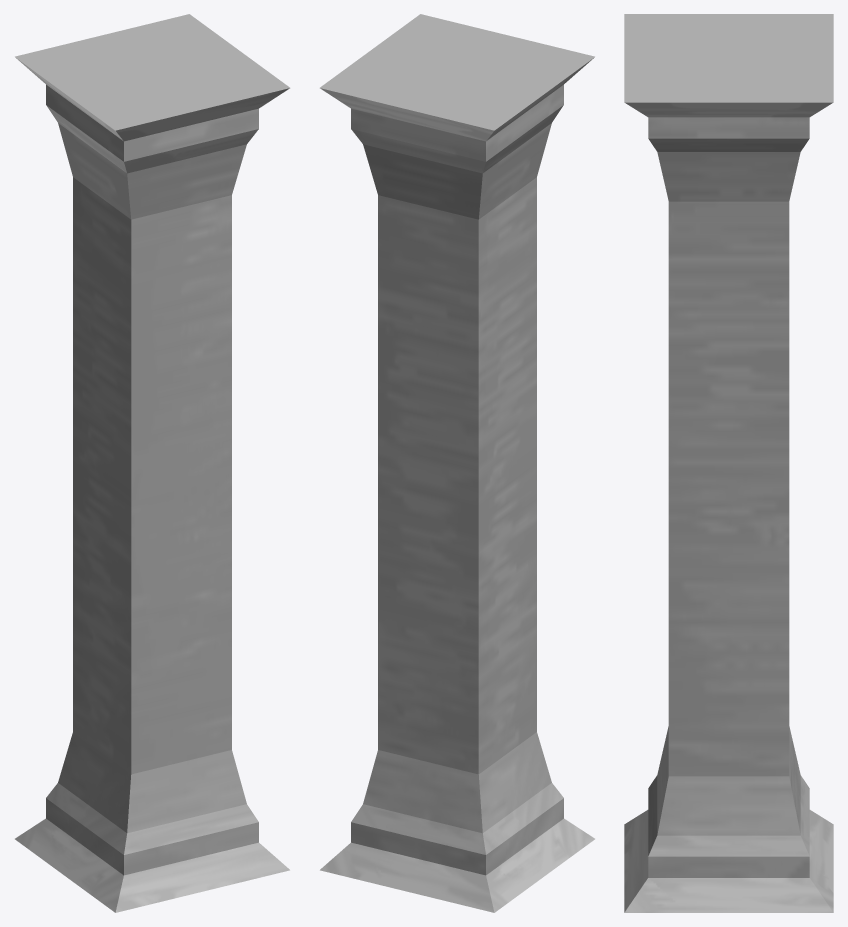
The model's file is sagla_sutun.fbx.
The picture shows the model from 3 angles, left to right: view 1: azimuth 30°, elevation 25°; view 2: azimuth 150°, elevation 25°; view 3: azimuth 270°, elevation 25°; orthographic projection. The views are drawn at different scales.
Parts seen in each view (by area): view 1: saglam_sutun; view 2: saglam_sutun; view 3: saglam_sutun.
Part boxes in pixels (x1=…): saglam_sutun: x1=15, y1=14, x2=289, y2=912; saglam_sutun: x1=320, y1=14, x2=594, y2=912; saglam_sutun: x1=624, y1=14, x2=833, y2=912.
Bounding box in the file's own units: 3.21 × 13.68 × 3.21.
Materials: 1 (1 with a texture image).
